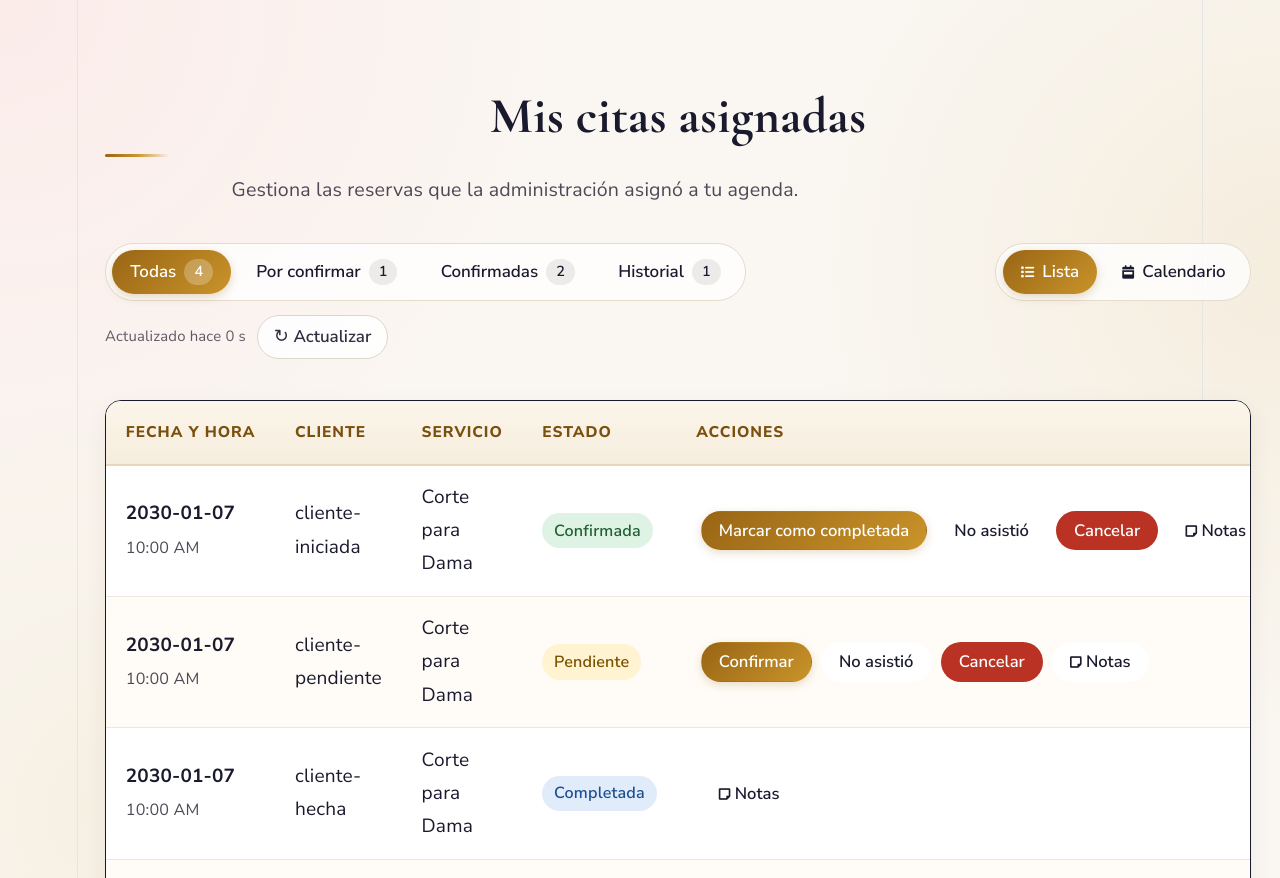
StylistAppointments › filtra por estado y muestra un mensaje cuando no hay citas en el filtro
Expected: the text "cliente-iniciada" is shown, [275,464,402,596]
Click the button "Por confirmar 1" at (327, 272), box [238,250,415,294]
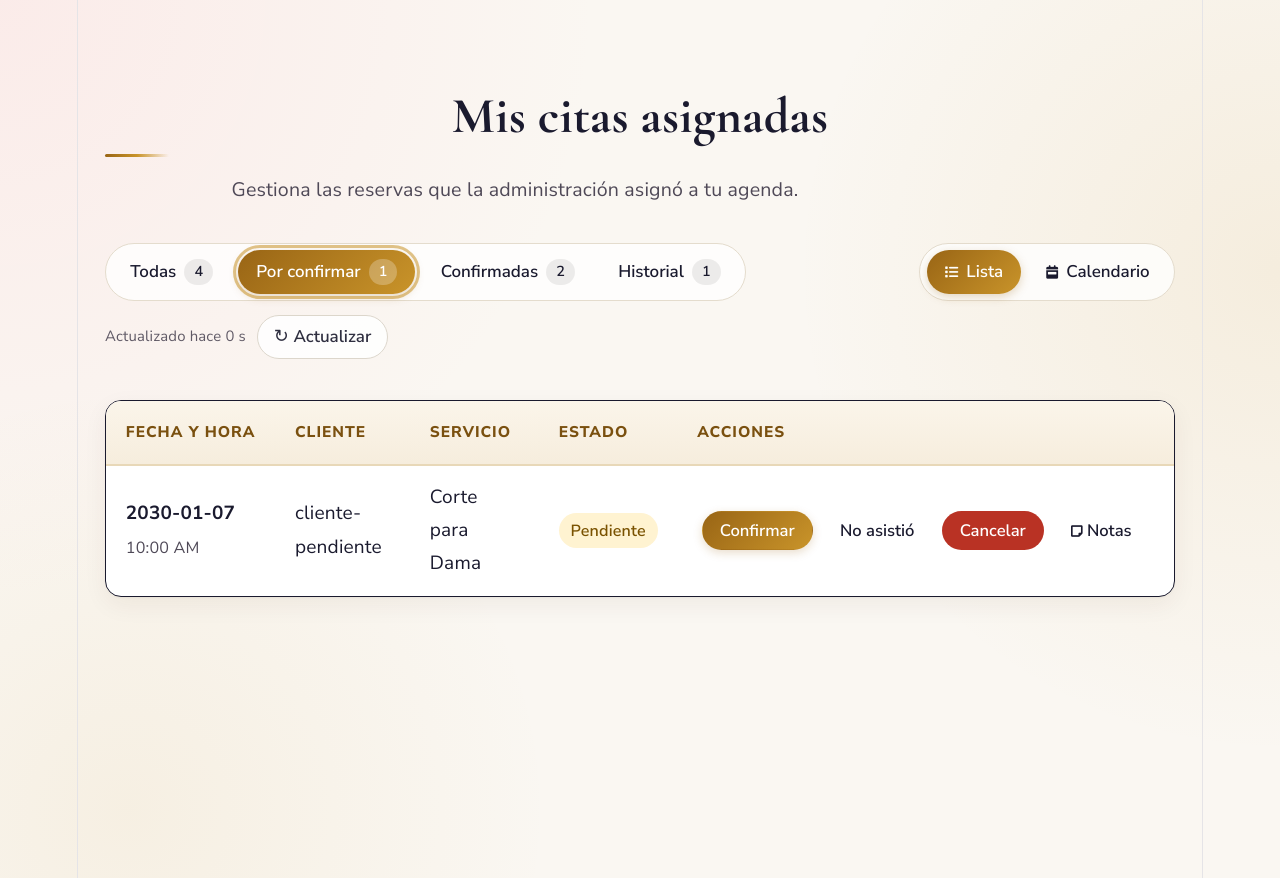
Expected: the text "cliente-pendiente" is shown, [275,464,410,596]
Expected: the text "cliente-iniciada" is gone
Click the button "Historial 1" at (670, 272), box [600,250,739,294]
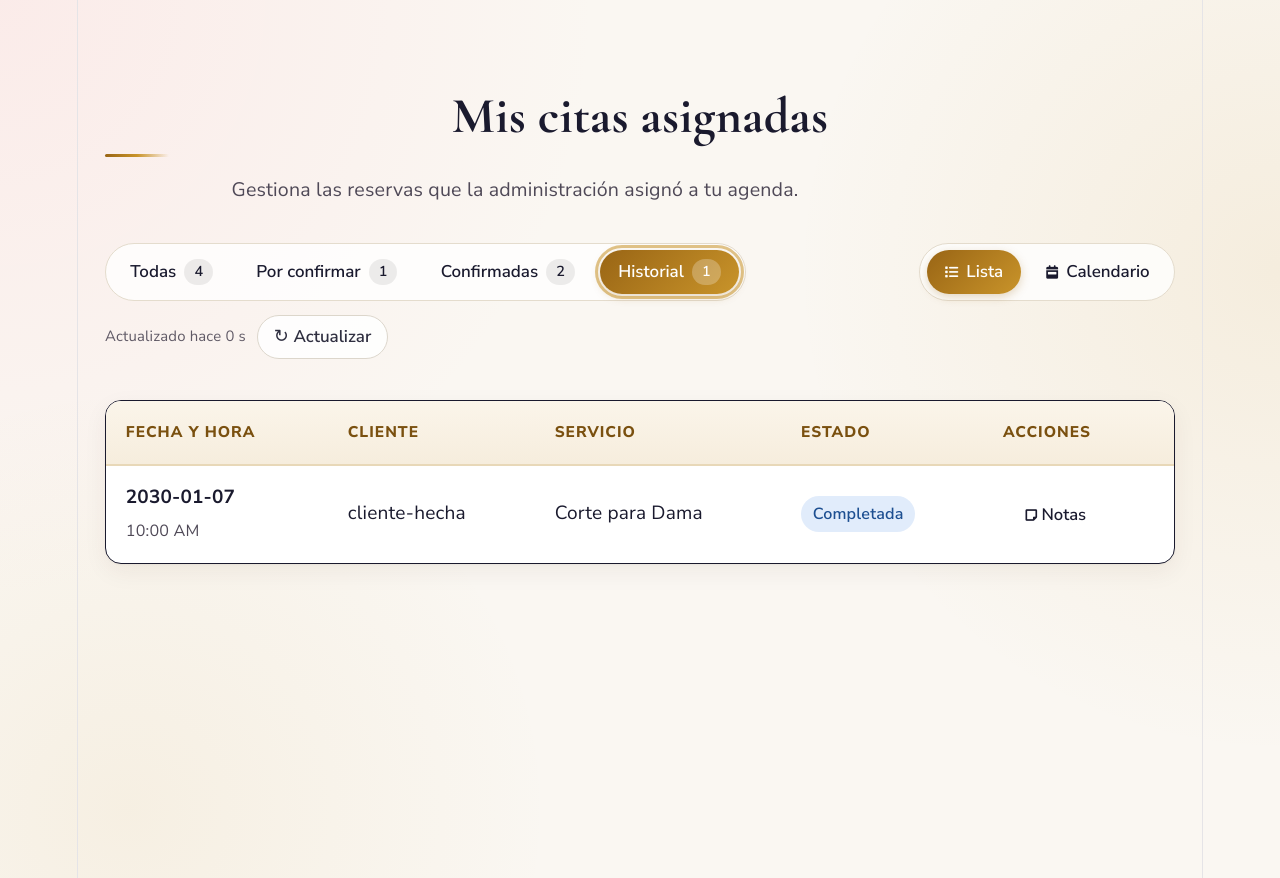
Expected: the text "cliente-hecha" is shown, [328,464,535,563]
Expected: the text "cliente-pendiente" is gone
Click the button with aria-label "Actualizar ahora" at (323, 337), box [257,315,388,359]
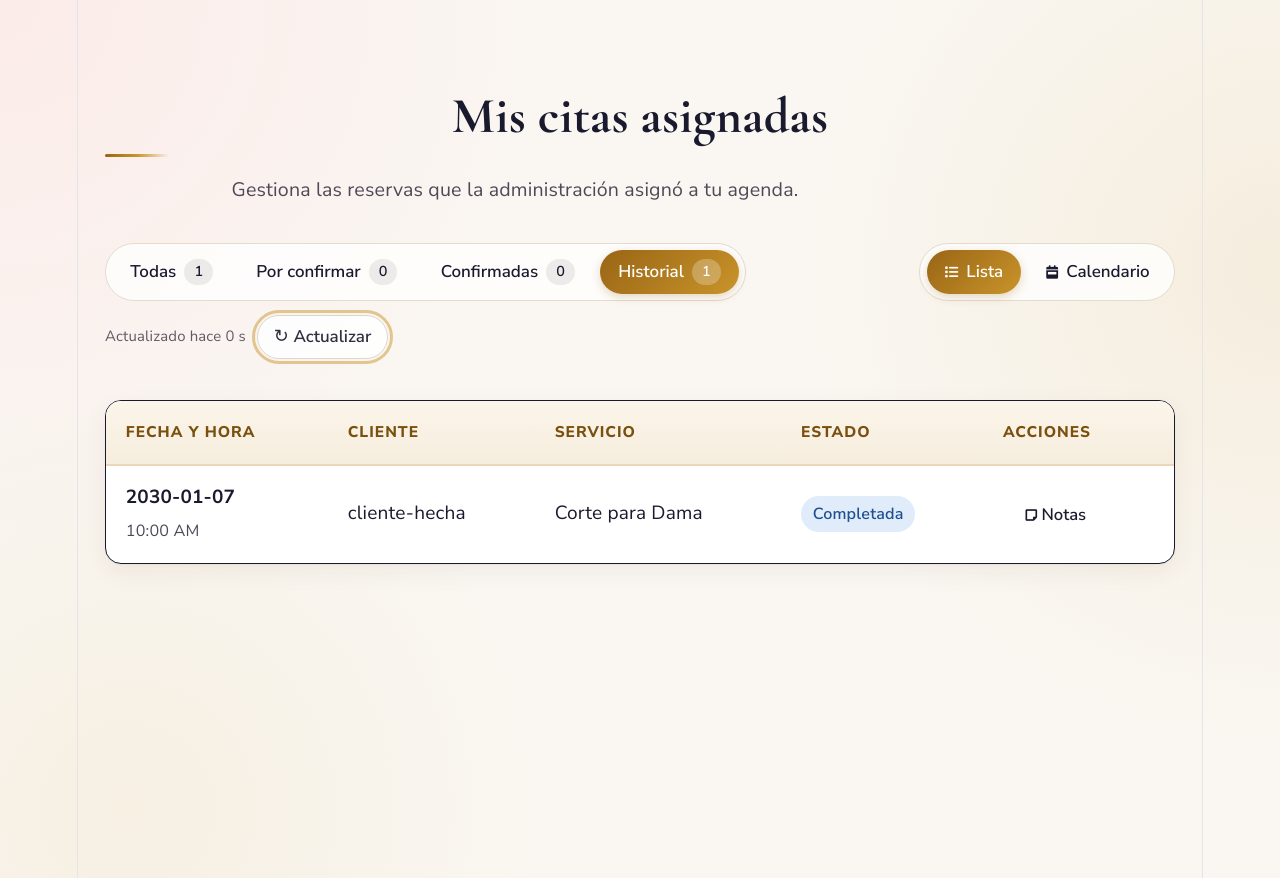
Click the button "Confirmadas 0" at (508, 272), box [423,250,593,294]
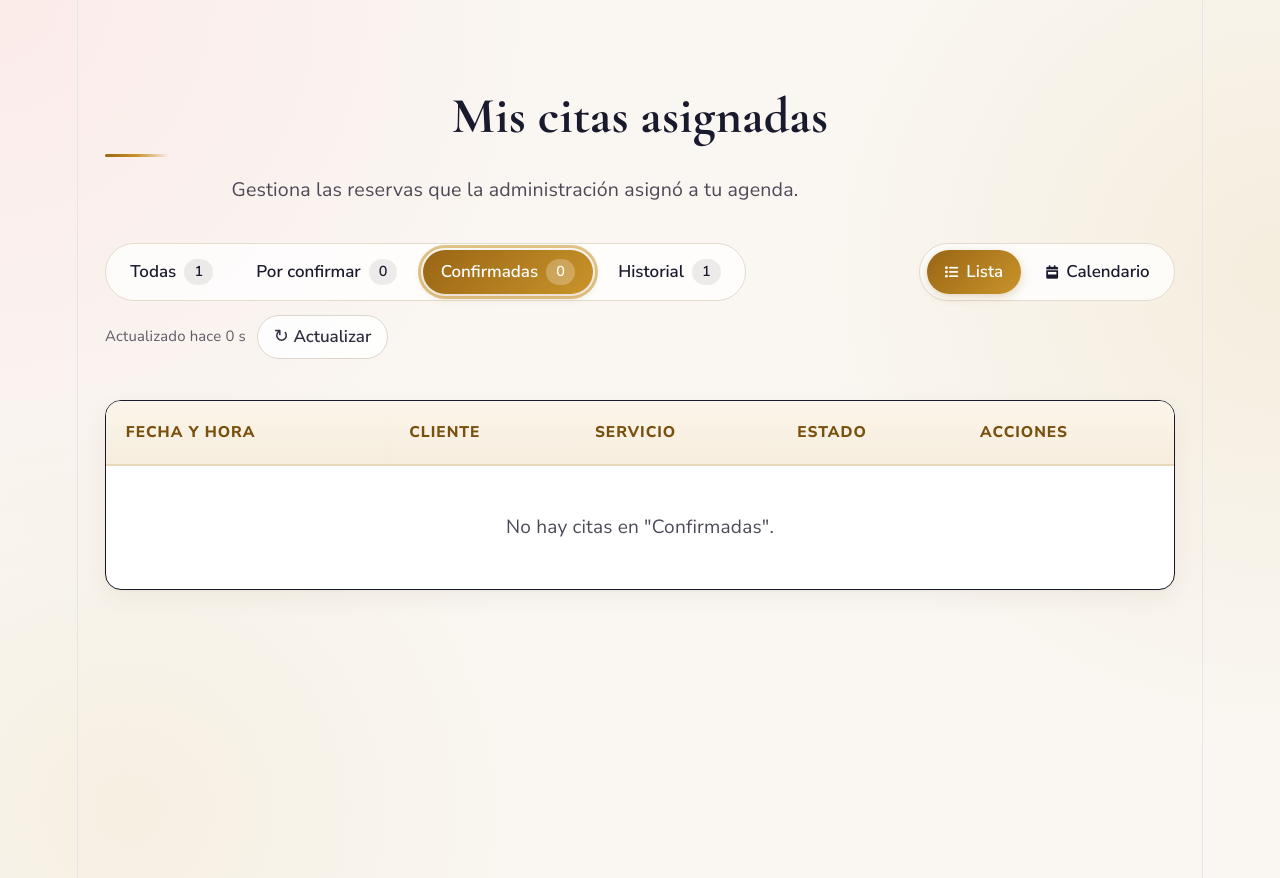
Expected: the text "No hay citas en \"Confirmadas\"." is shown, [106,464,1174,589]
